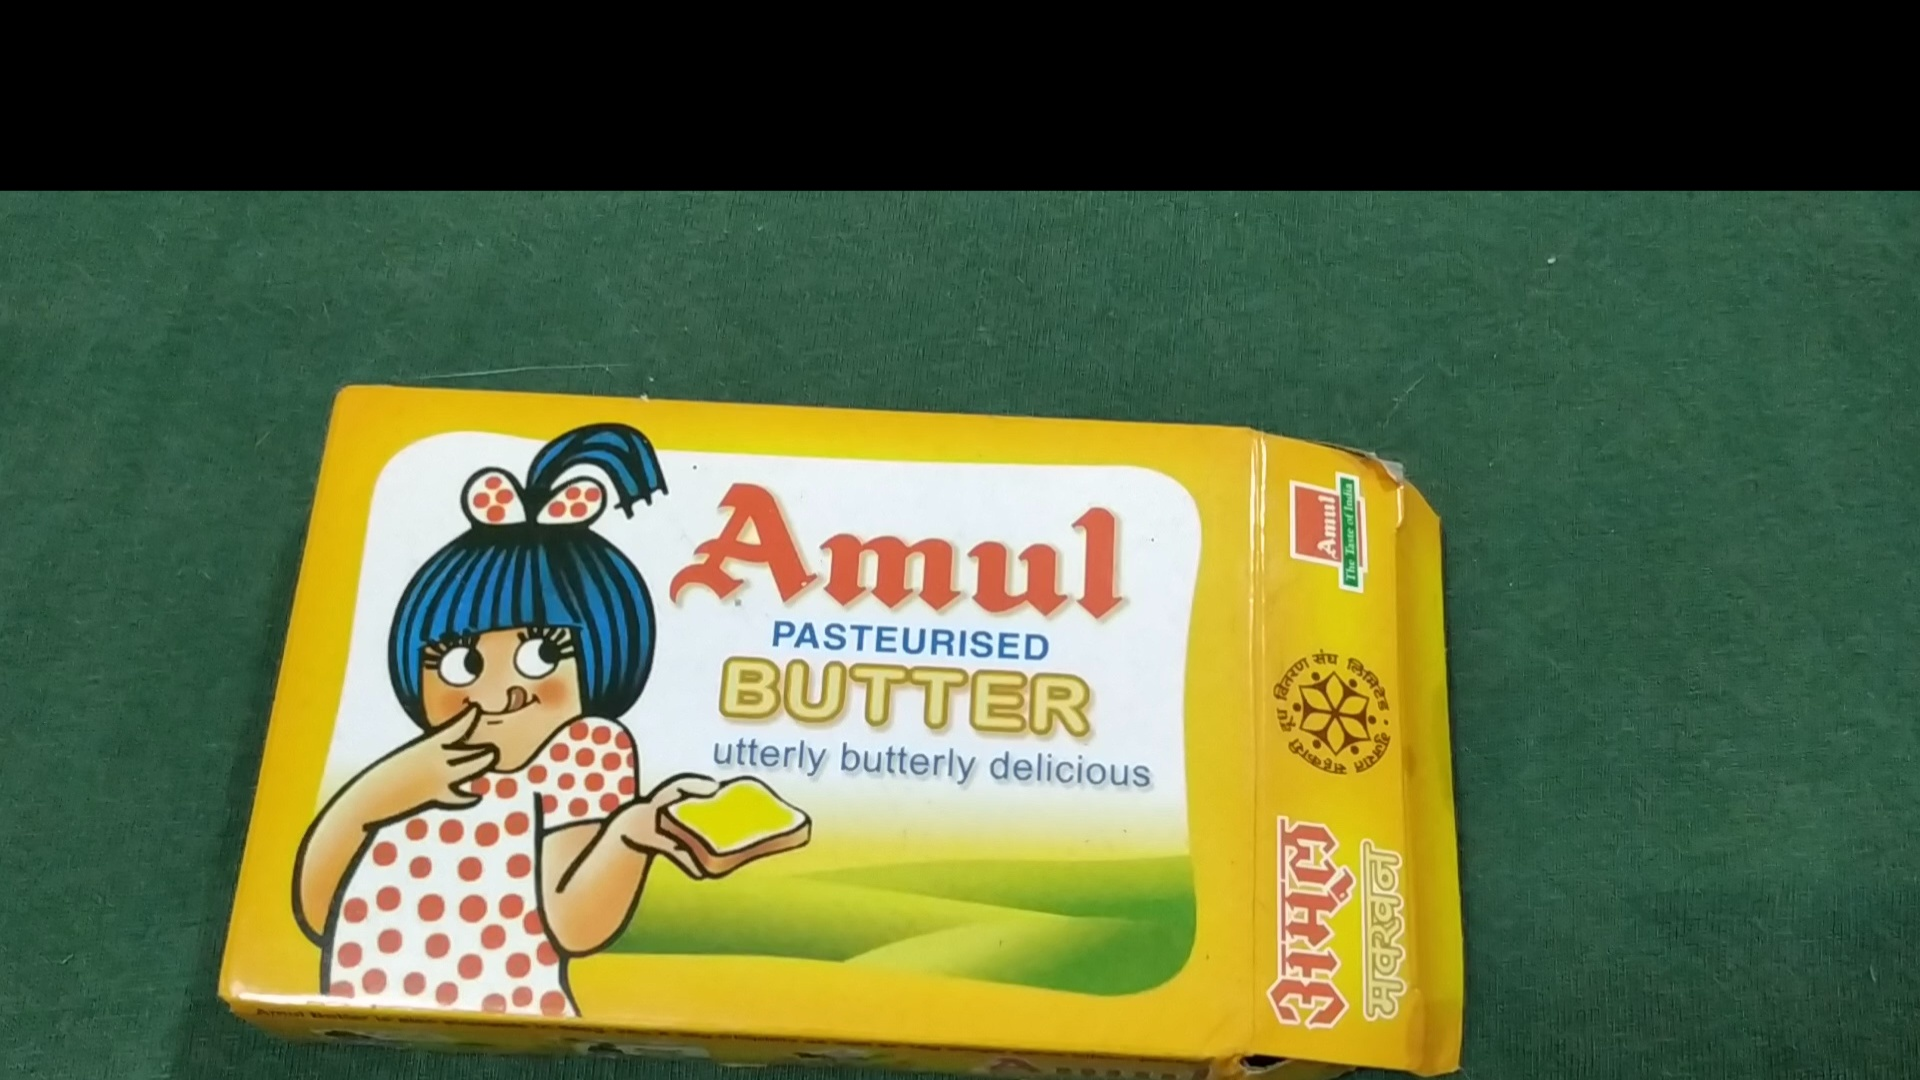amul_butter: (210, 384, 1457, 1080)
